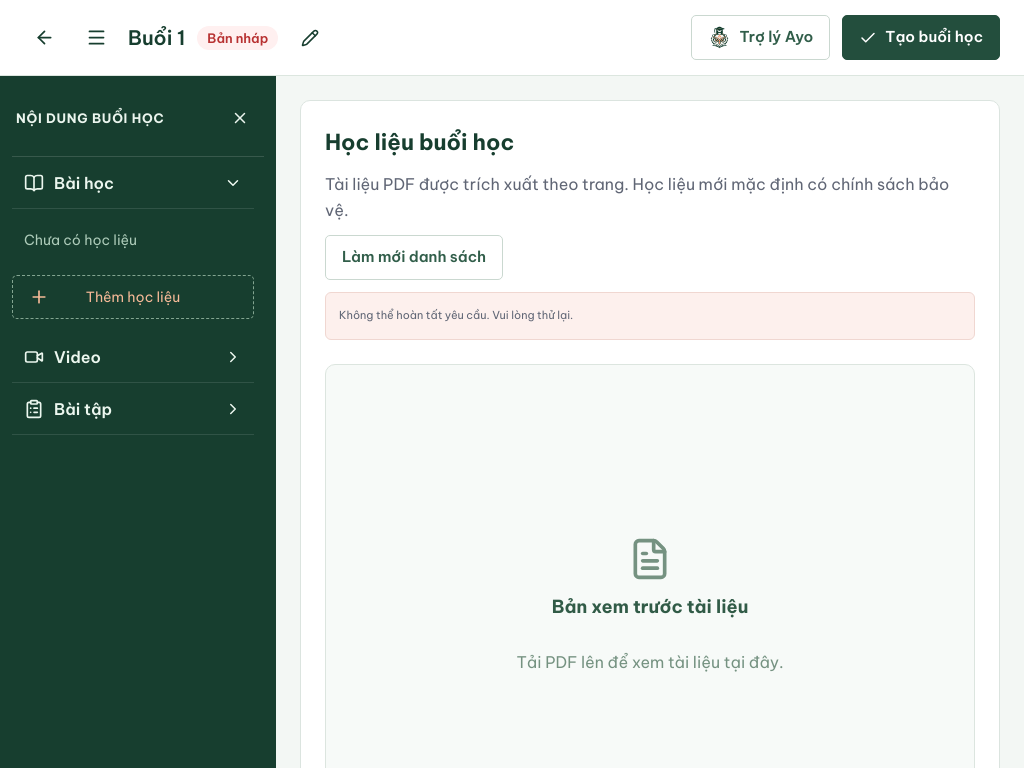
finalizes a draft session independently of the selected PDF
Expected: the text "Bản nháp" is shown, [197,26,278,50]
Click the button "Tạo buổi học": (921, 38) [842,15,1000,60]
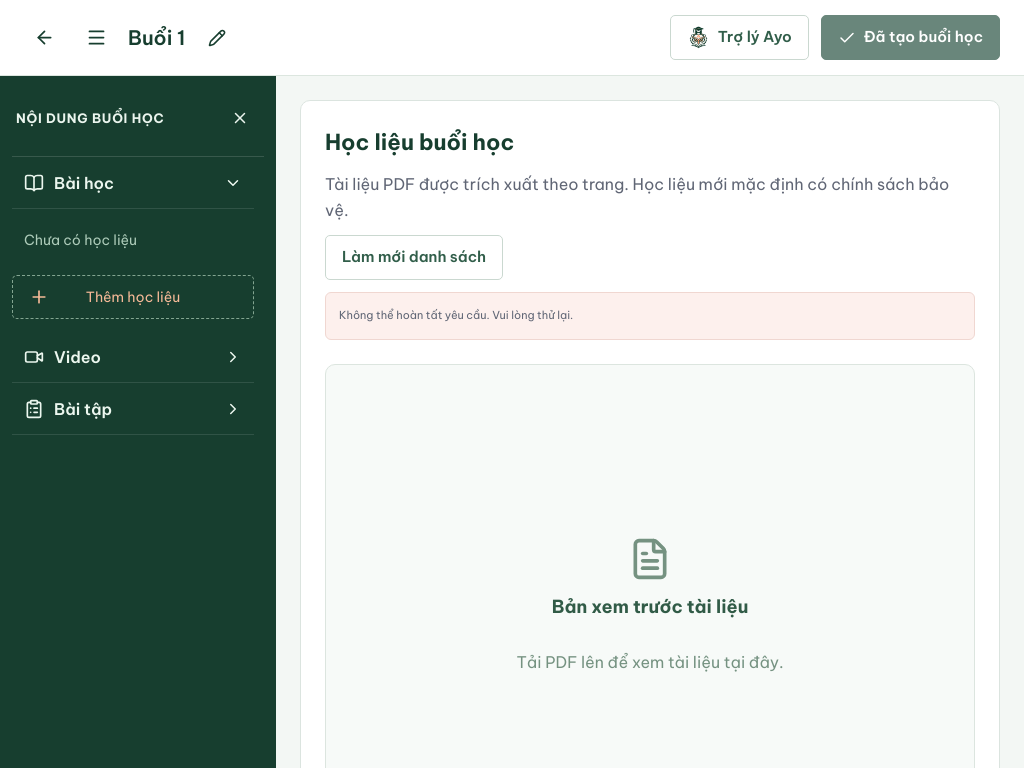
Result: the text "Bản nháp" is gone
Result: the button "Đã tạo buổi học" is disabled at [821,15,1000,60]
